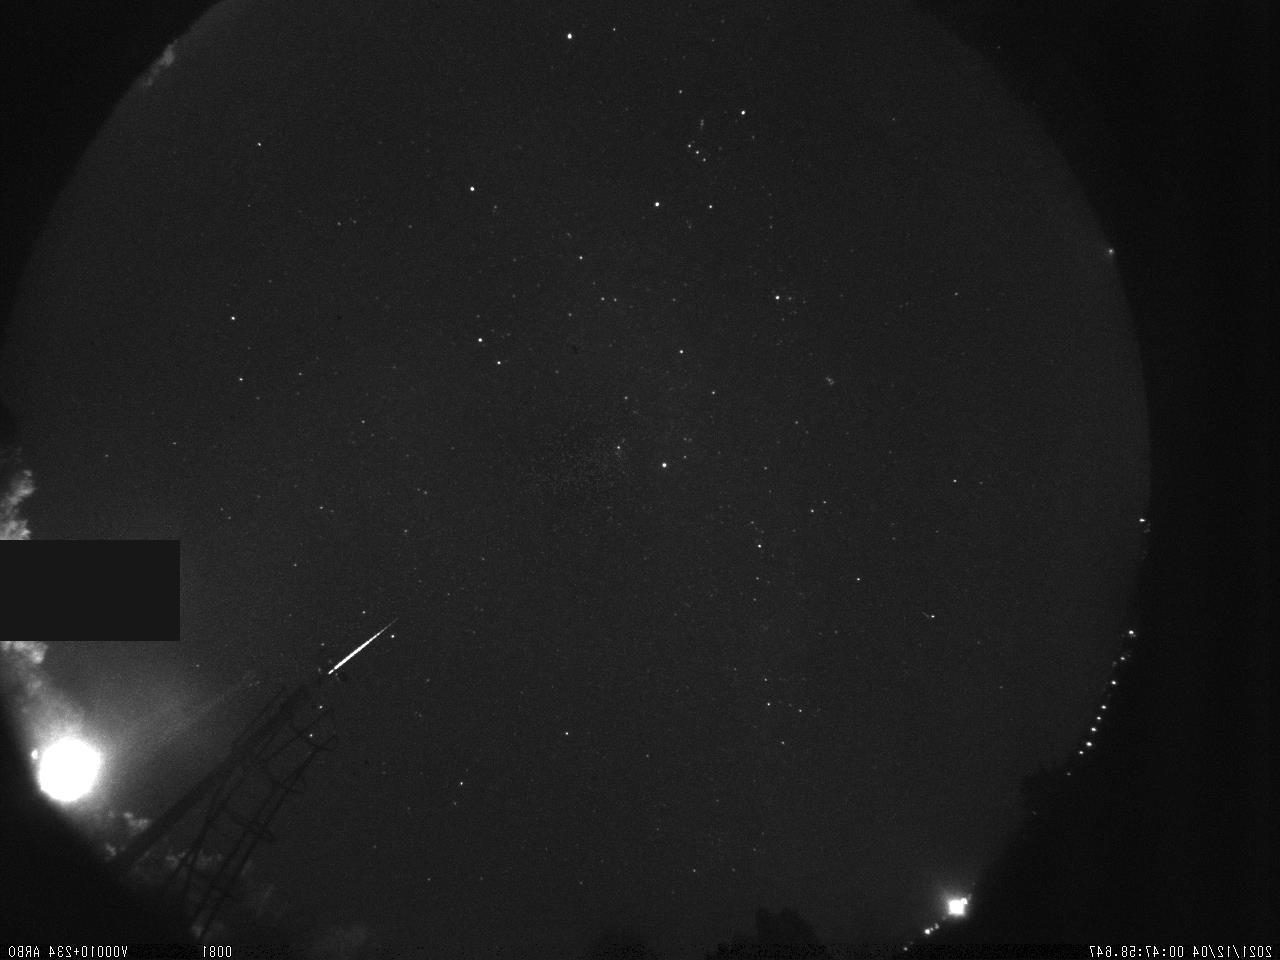meteor: (291, 602, 413, 698)
